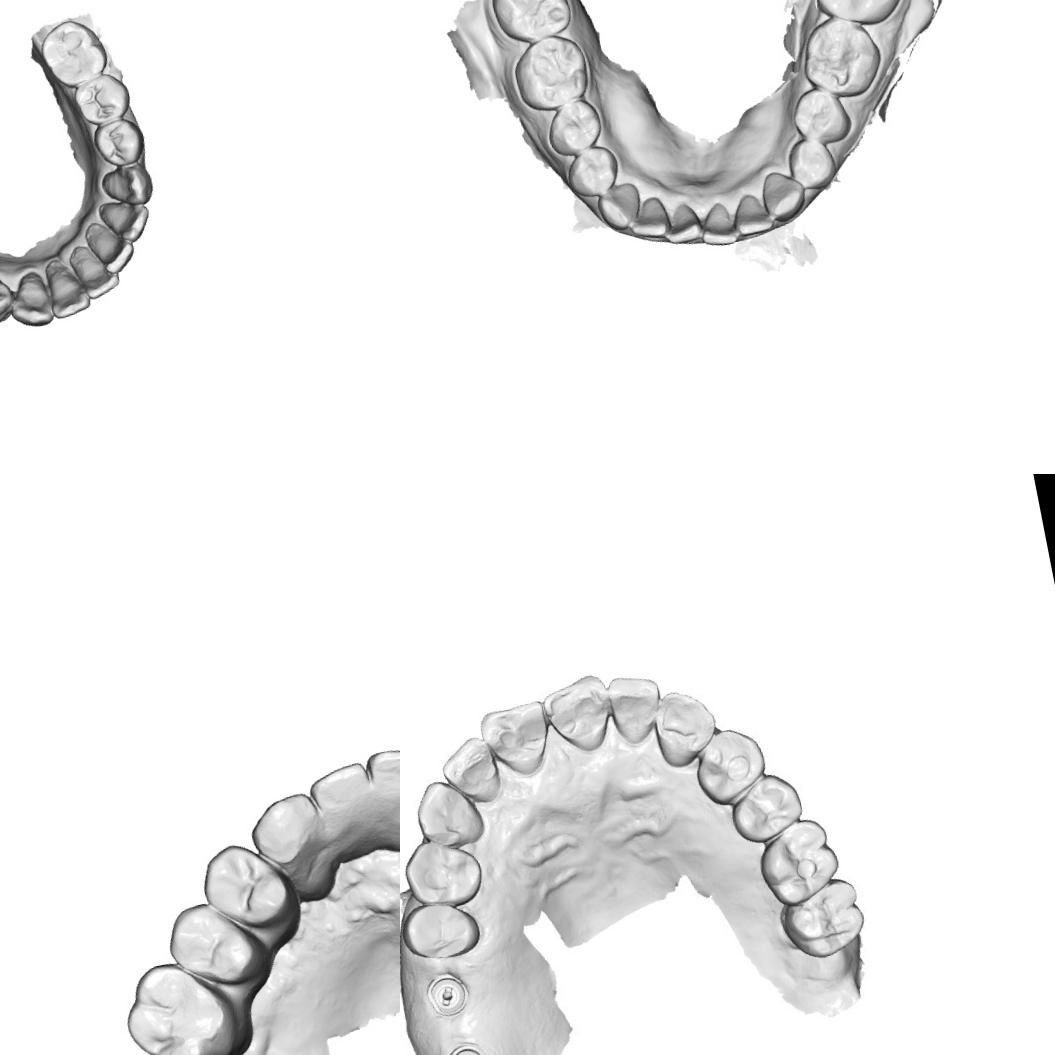canine: (243, 789, 331, 885), (408, 771, 490, 855), (650, 686, 720, 770), (1, 260, 61, 334), (98, 152, 158, 206), (756, 166, 810, 225), (592, 179, 645, 232)
implant: (436, 1028, 496, 1055)
implant_minus: (422, 964, 486, 1028)
incisor: (306, 757, 381, 834), (480, 699, 552, 775), (542, 672, 610, 752), (604, 668, 662, 744), (439, 735, 500, 802), (66, 235, 127, 301), (40, 251, 96, 322), (84, 215, 140, 274), (362, 738, 400, 817), (100, 190, 152, 244), (727, 187, 775, 238), (624, 193, 672, 243), (694, 198, 739, 250), (658, 198, 704, 247)
molar: (113, 950, 248, 1055), (751, 812, 854, 910), (770, 872, 872, 966), (794, 8, 888, 105), (507, 28, 595, 119), (36, 12, 113, 95), (483, 0, 577, 49), (803, 0, 913, 35)
premolar: (195, 835, 295, 938), (163, 895, 260, 998), (721, 766, 810, 850), (688, 720, 773, 805), (400, 834, 491, 911), (400, 892, 488, 969), (786, 81, 855, 150), (540, 94, 608, 160), (71, 66, 133, 128), (561, 142, 624, 202), (88, 112, 148, 170), (782, 133, 839, 194), (0, 259, 16, 328)
